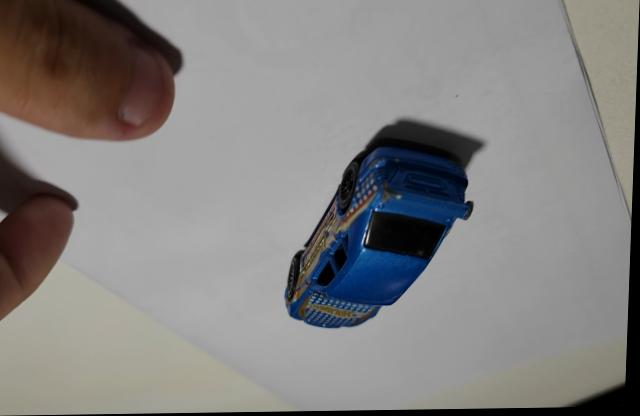04_MERZEDES: (286, 145, 476, 330)
